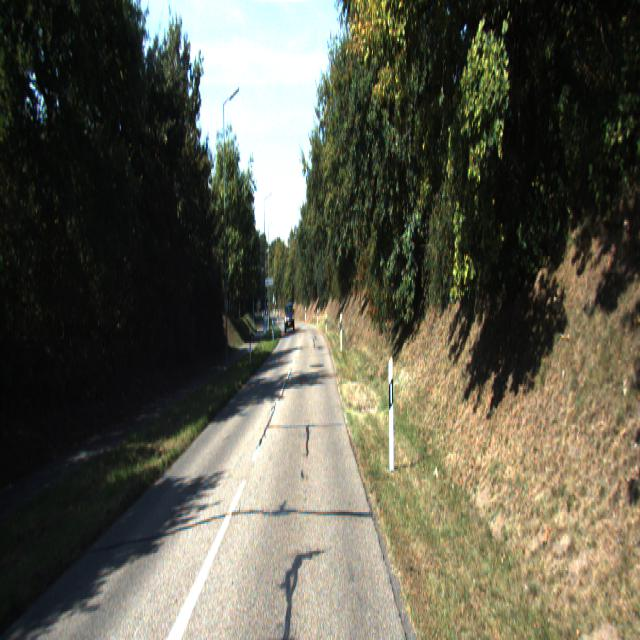Car: (282, 300, 296, 337)
